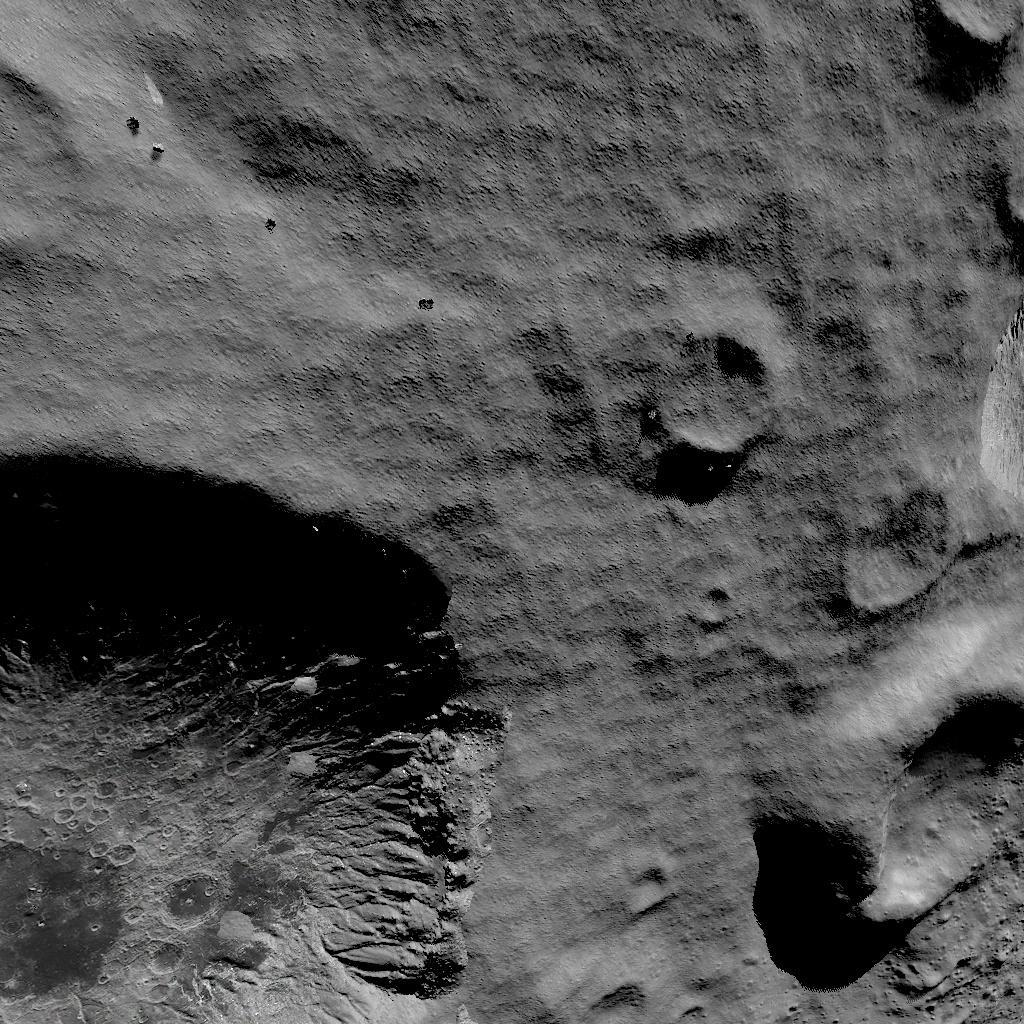Crater: (0, 436, 485, 1024), (763, 660, 1024, 1004), (0, 56, 95, 289), (639, 332, 778, 482), (971, 160, 1024, 513), (821, 482, 959, 617), (907, 0, 1024, 68)
Plan surface: (621, 3, 890, 308), (177, 4, 607, 188), (115, 238, 402, 417)
